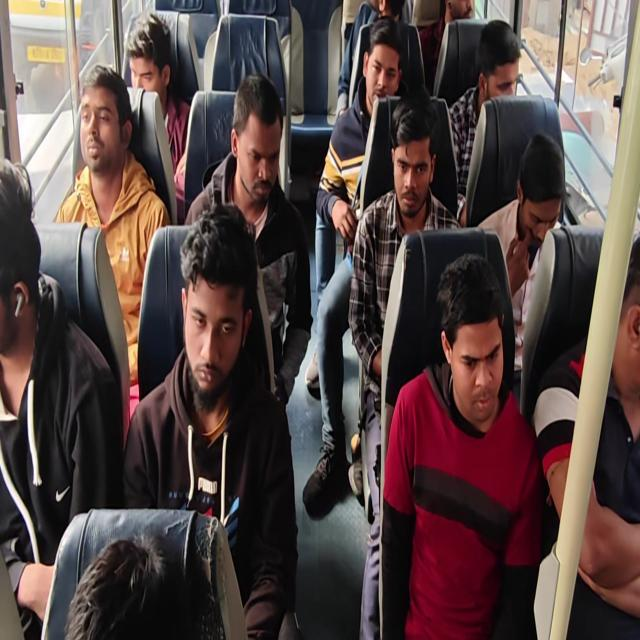person: (1, 2, 638, 638), (122, 202, 300, 638), (379, 252, 544, 638), (347, 90, 462, 638), (0, 157, 123, 638), (302, 16, 404, 514), (183, 73, 313, 409), (532, 232, 639, 639), (53, 63, 171, 412), (476, 131, 565, 364), (448, 19, 522, 225), (123, 10, 191, 223), (63, 532, 194, 639), (336, 0, 405, 120), (418, 0, 475, 95)
